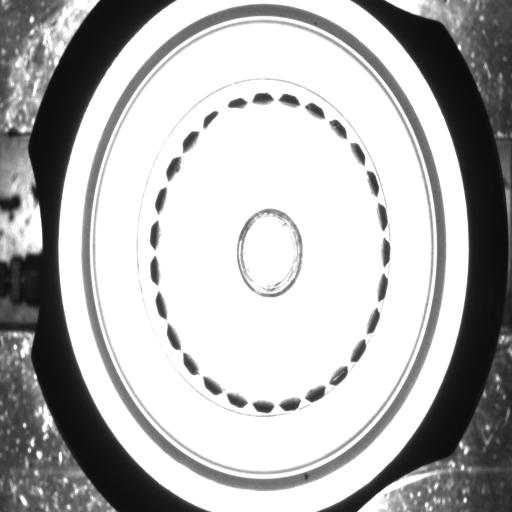gear: (145, 85, 394, 420)
